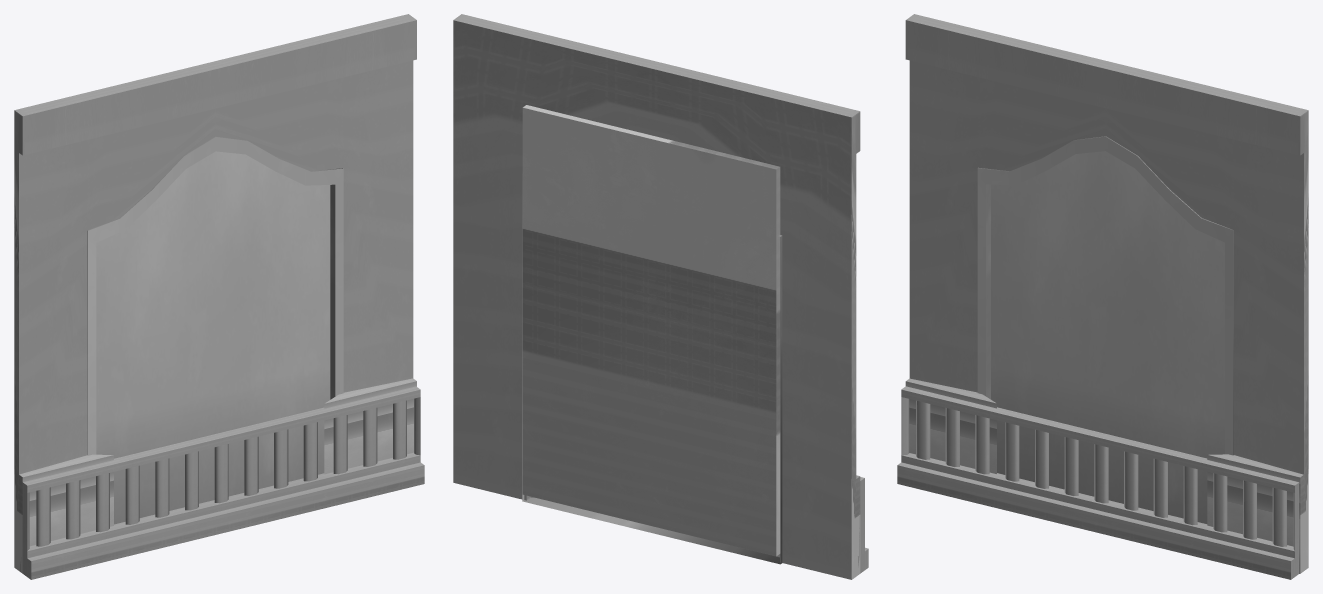
The model's file is coolWindows.fbx.
3 renders of one model, left to right at view 1: azimuth 30°, elevation 25°; view 2: azimuth 150°, elevation 25°; view 3: azimuth 330°, elevation 25°, orthographic.
Parts seen in each view (by area): view 1: greyDoorWall247, door, whiteEdgeGuard7, doorFrame; view 2: door, greyDoorWall247, doorFrame, whiteEdgeGuard7; view 3: greyDoorWall247, door, whiteEdgeGuard7, doorFrame.
Boxes of the visible parts, x1,y1,x2,y2 form: greyDoorWall247: [14, 14, 416, 573]; door: [96, 151, 330, 524]; whiteEdgeGuard7: [20, 386, 424, 579]; doorFrame: [87, 136, 343, 455]; door: [522, 105, 780, 556]; greyDoorWall247: [453, 14, 860, 579]; doorFrame: [522, 174, 782, 564]; whiteEdgeGuard7: [858, 477, 868, 573]; greyDoorWall247: [905, 14, 1308, 573]; door: [991, 151, 1224, 523]; whiteEdgeGuard7: [897, 386, 1299, 579]; doorFrame: [977, 136, 1233, 455].
Size of the model in its own units: 902 by 1000 by 81.54.
